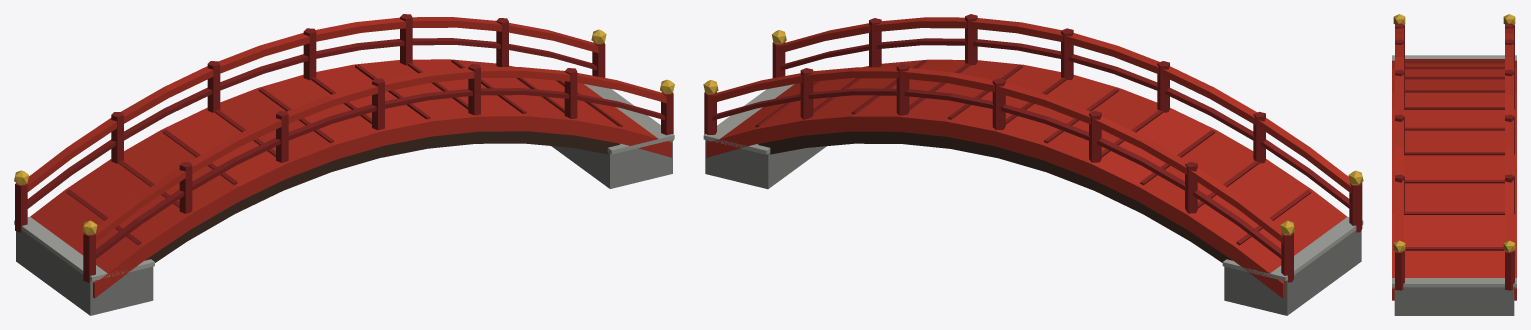
File: Decor_SamuraiShrine_Bridge.fbx
3 renders of one model, left to right at view 1: azimuth 30°, elevation 25°; view 2: azimuth 150°, elevation 25°; view 3: azimuth 270°, elevation 25°, orthographic. The views are drawn at different scales.
Parts seen in each view (by area): view 1: Bridge_Body; view 2: Bridge_Body; view 3: Bridge_Body.
Part boxes in pixels (x1,y1,x2,y2): Bridge_Body: [14, 14, 674, 315]; Bridge_Body: [703, 14, 1363, 315]; Bridge_Body: [1392, 14, 1516, 315].
Bounding box in the file's own units: 21.94 × 5.74 × 5.
